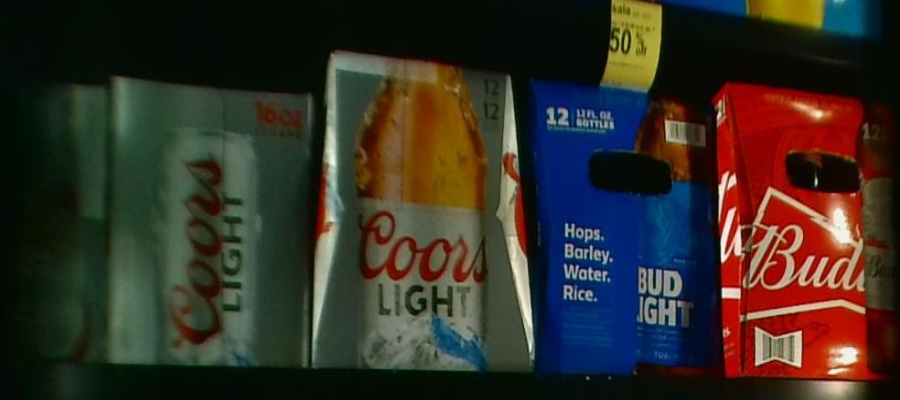bottle: (321, 51, 530, 368), (109, 75, 314, 370), (716, 79, 900, 377), (538, 86, 716, 368), (10, 83, 108, 366)
